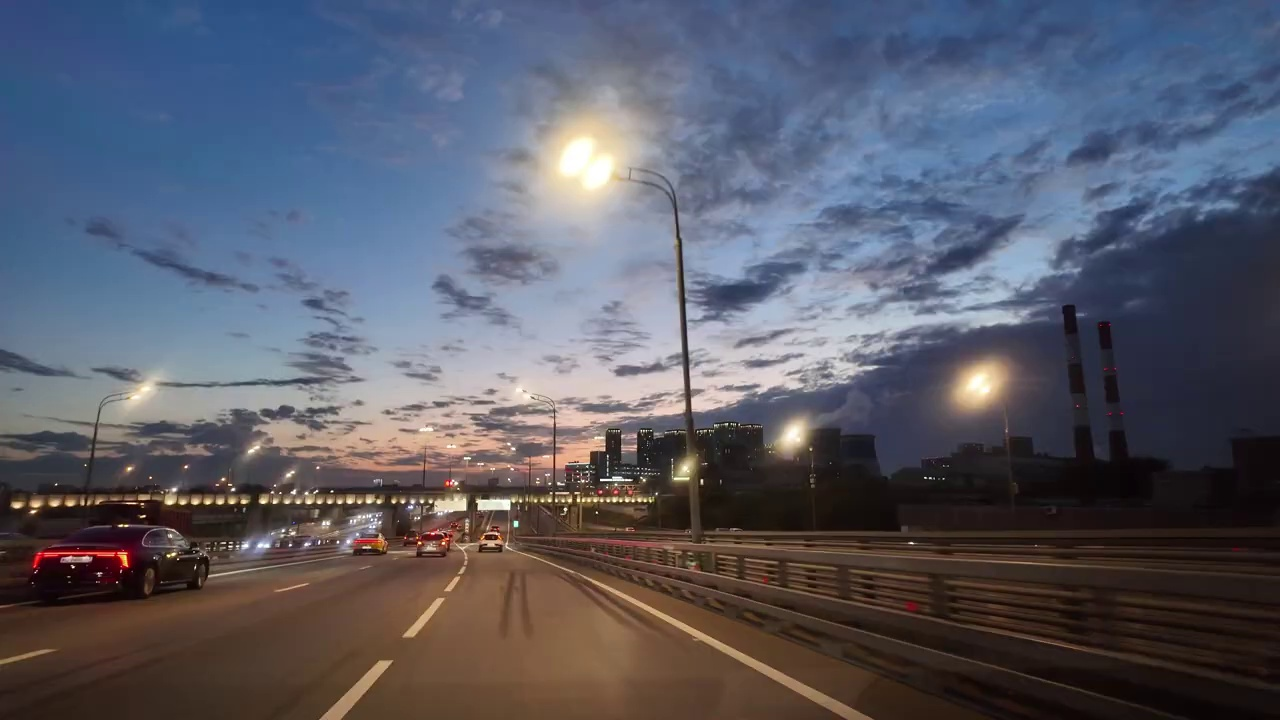acesa: (552, 130, 614, 195), (956, 364, 1006, 410), (771, 418, 811, 456), (126, 375, 154, 408)
